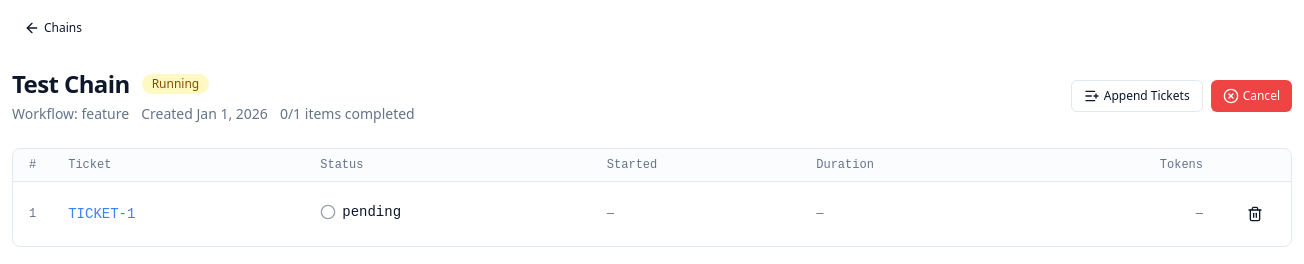
Test: ChainDetailPage - Remove confirmation flow › clicking Cancel hides the confirmation and restores the row
The image size is (1304, 264).
# Open confirmation
Click the 4th button at (1255, 214), box [1235,194,1275,234]
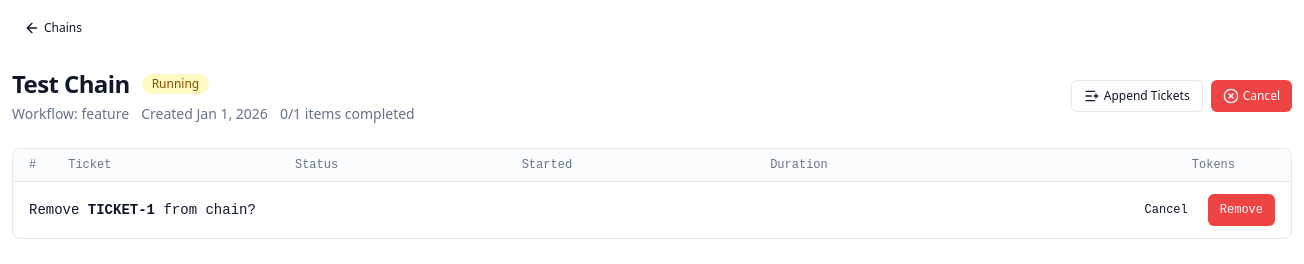
# Click Cancel scoped to the confirmation cell (avoids chain Cancel button)
Click the button "Cancel" in the row of "from chain?" at (1166, 210), box [1133,194,1200,226]
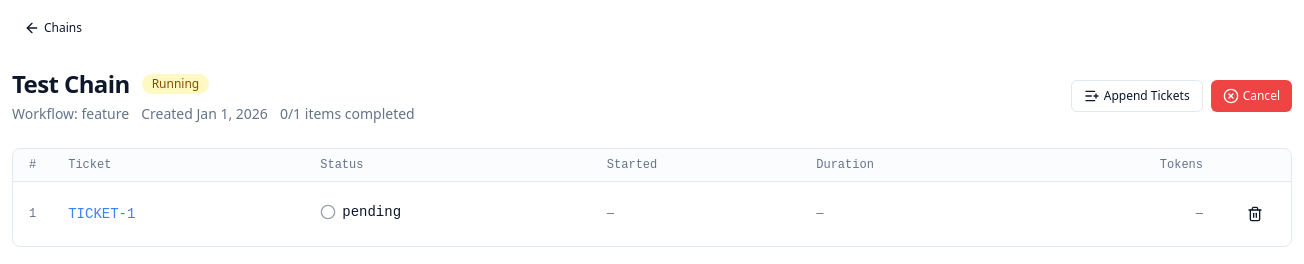
Check: the link "TICKET-1" is shown, box [68,206,135,222]
Check: the text "from chain?" is gone
